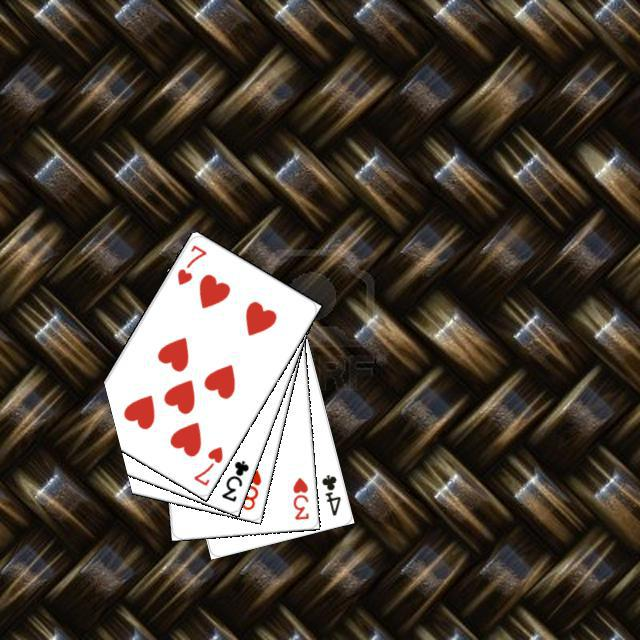3c: (217, 455, 251, 503)
3h: (288, 472, 310, 522)
4c: (317, 469, 342, 517)
7h: (188, 441, 225, 488), (172, 240, 208, 287)
8h: (236, 464, 263, 512)
